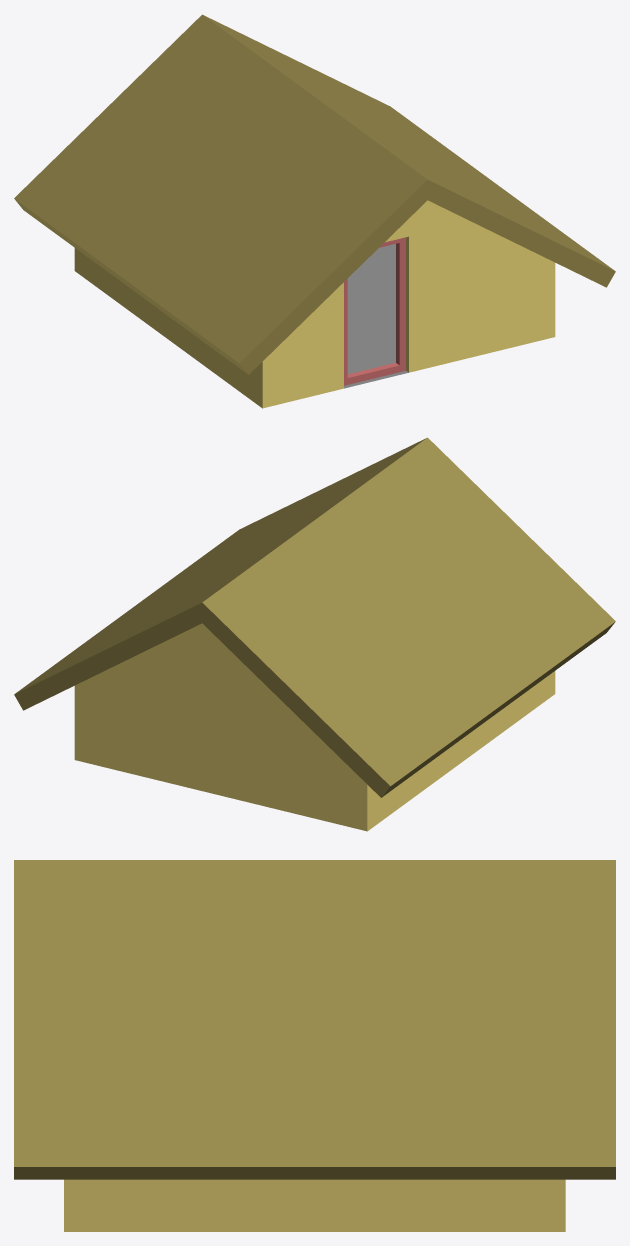
File: result.glb
3 views of the same model, one above another, from view 1: azimuth 30°, elevation 25°; view 2: azimuth 150°, elevation 25°; view 3: azimuth 270°, elevation 25° (orthographic). The views are drawn at different scales.
Parts seen in each view (by area): view 1: a47293fd-da52-444d-965e-ca9fcb36b458__undefined (×2), e8dff611-53e0-406a-a016-47beb4d9958c__undefined, 8bf1297a-3779-4554-b50a-b1cd827ca7ac__Plane_4, 1efd3111-7f65-4f1b-a824-dd303f47c0b8__Box; view 2: a47293fd-da52-444d-965e-ca9fcb36b458__undefined (×2), e8dff611-53e0-406a-a016-47beb4d9958c__undefined; view 3: a47293fd-da52-444d-965e-ca9fcb36b458__undefined, e8dff611-53e0-406a-a016-47beb4d9958c__undefined.
Part boxes in pixels (x1=…): a47293fd-da52-444d-965e-ca9fcb36b458__undefined (×2): x1=14, y1=14, x2=615, y2=374; e8dff611-53e0-406a-a016-47beb4d9958c__undefined: x1=74, y1=200, x2=555, y2=408; 8bf1297a-3779-4554-b50a-b1cd827ca7ac__Plane_4: x1=344, y1=244, x2=408, y2=388; 1efd3111-7f65-4f1b-a824-dd303f47c0b8__Box: x1=344, y1=237, x2=405, y2=385; a47293fd-da52-444d-965e-ca9fcb36b458__undefined (×2): x1=14, y1=437, x2=615, y2=797; e8dff611-53e0-406a-a016-47beb4d9958c__undefined: x1=74, y1=623, x2=555, y2=831; a47293fd-da52-444d-965e-ca9fcb36b458__undefined: x1=14, y1=860, x2=615, y2=1179; e8dff611-53e0-406a-a016-47beb4d9958c__undefined: x1=64, y1=1179, x2=565, y2=1231.
Size of the model in its own units: 579 by 304 by 600.
